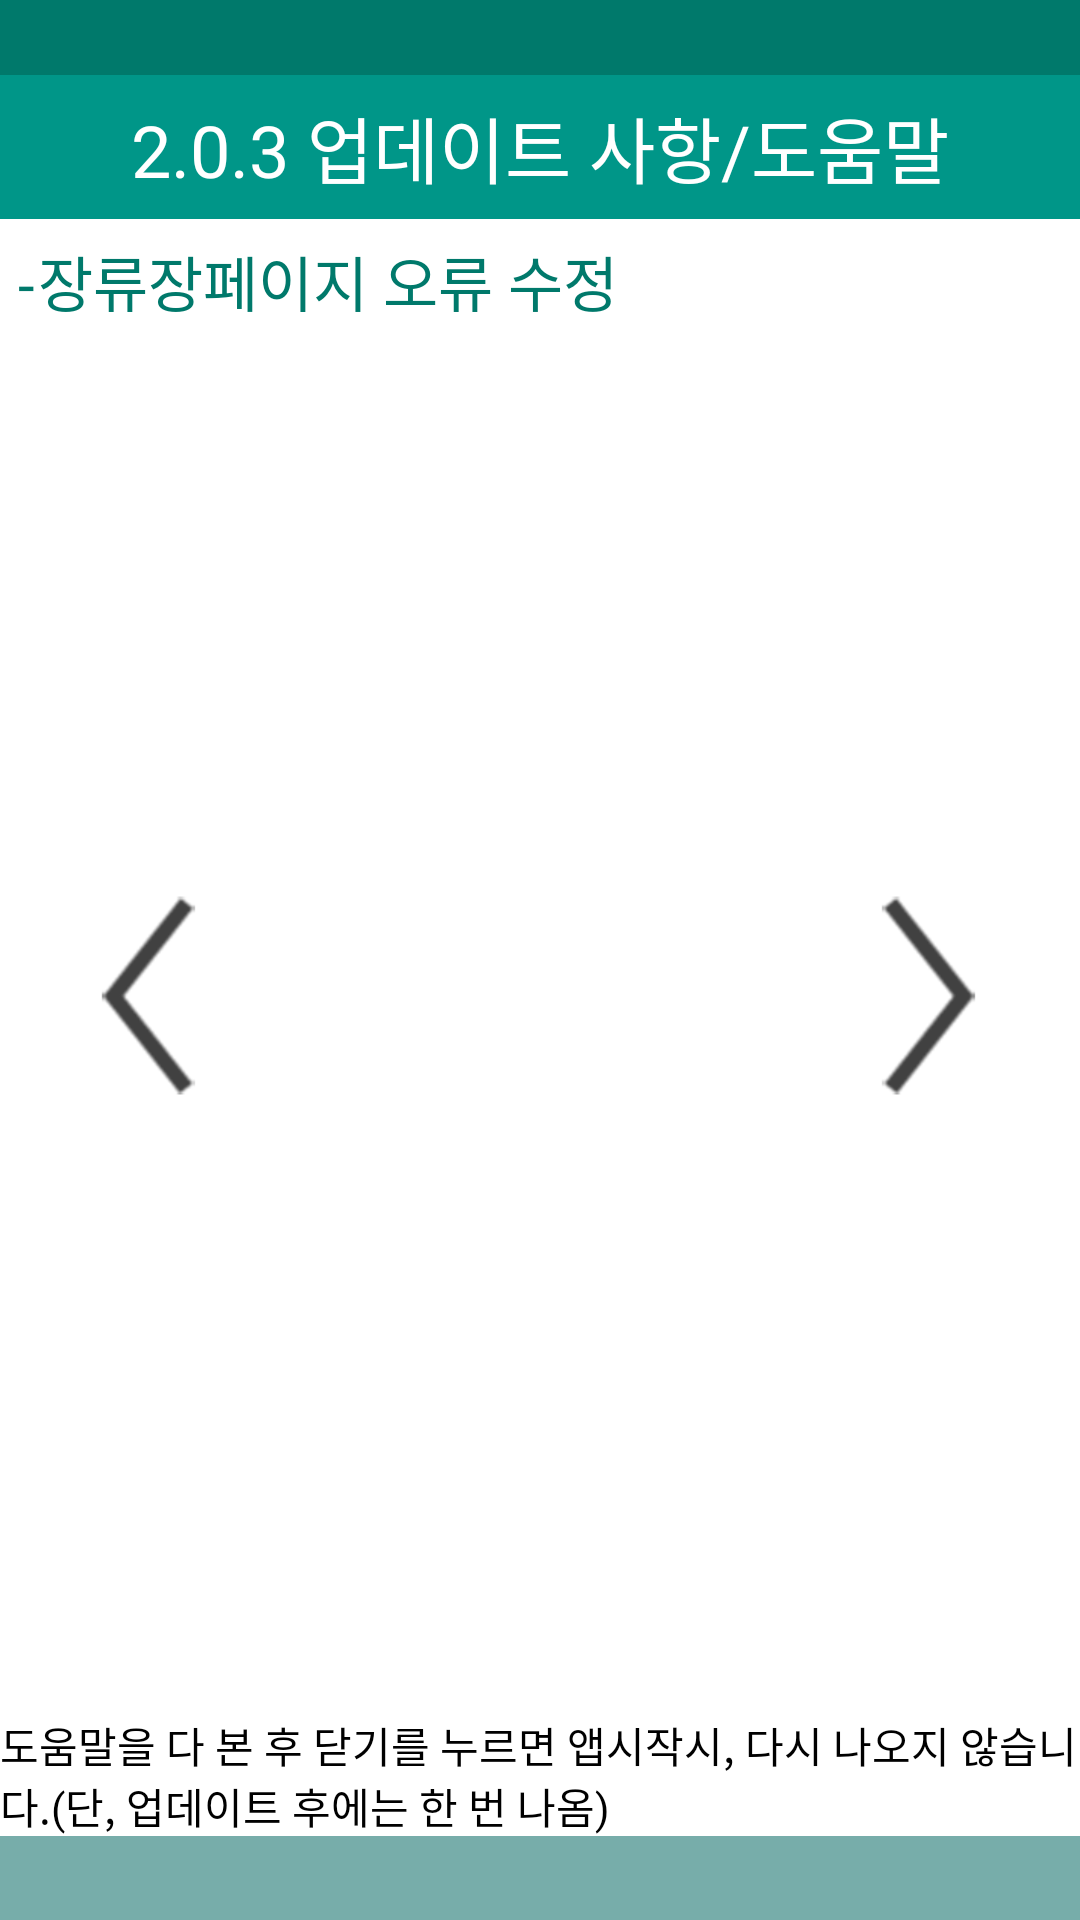

Screen size 1080 x 1920. Icon name, then its center in pixels as (x=x, y=y):
pager navi: (x=148, y=996), (x=928, y=996)
